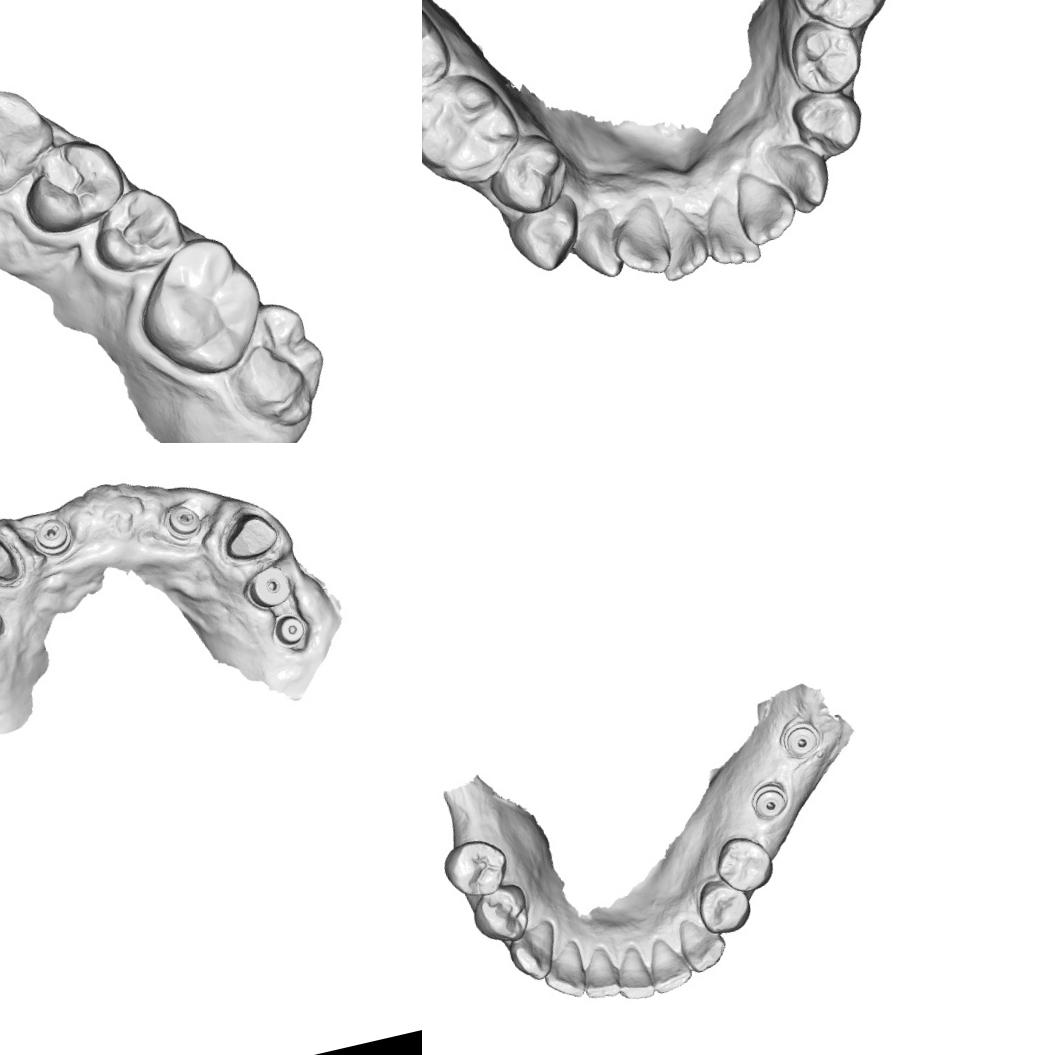canine: (0, 79, 64, 197), (768, 136, 835, 221), (566, 204, 632, 286), (502, 916, 566, 986), (674, 910, 732, 976)
crown: (216, 502, 284, 566), (0, 526, 25, 592)
implant: (243, 562, 296, 614), (745, 776, 793, 822), (776, 718, 824, 763), (269, 610, 311, 648)
implant_minus: (28, 514, 78, 562), (160, 500, 205, 545)
incisor: (728, 164, 805, 252), (648, 202, 720, 284), (695, 191, 765, 274), (606, 202, 673, 282), (536, 939, 593, 1004), (643, 931, 696, 995), (608, 944, 657, 1004), (576, 944, 622, 1004)
molar: (123, 226, 278, 388), (220, 294, 339, 438), (422, 69, 524, 195), (438, 832, 514, 904), (782, 0, 904, 39), (422, 0, 451, 110)
premolar: (9, 128, 134, 243), (83, 179, 190, 281), (482, 127, 574, 222), (781, 12, 868, 102), (785, 81, 870, 166), (503, 192, 586, 278), (464, 882, 536, 950), (710, 830, 778, 898), (691, 871, 756, 938)
